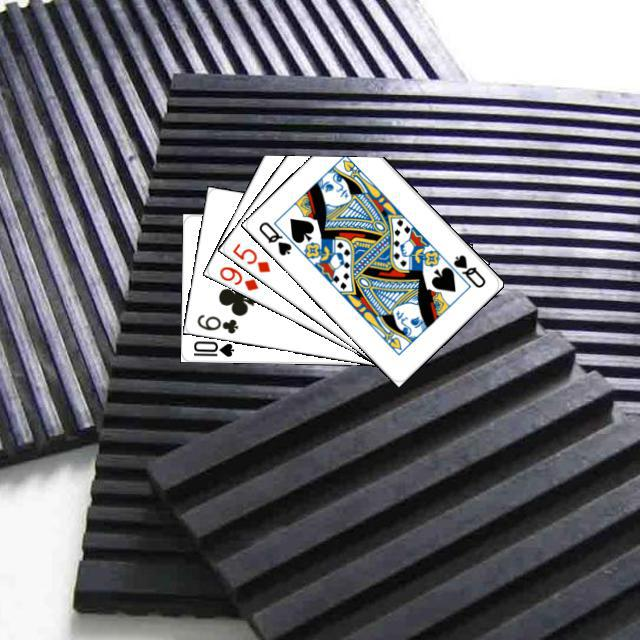10s: (188, 336, 236, 359)
5d: (228, 238, 272, 274)
6c: (192, 309, 240, 335)
9d: (214, 261, 260, 293)
Qs: (254, 217, 293, 257), (448, 250, 487, 290)
